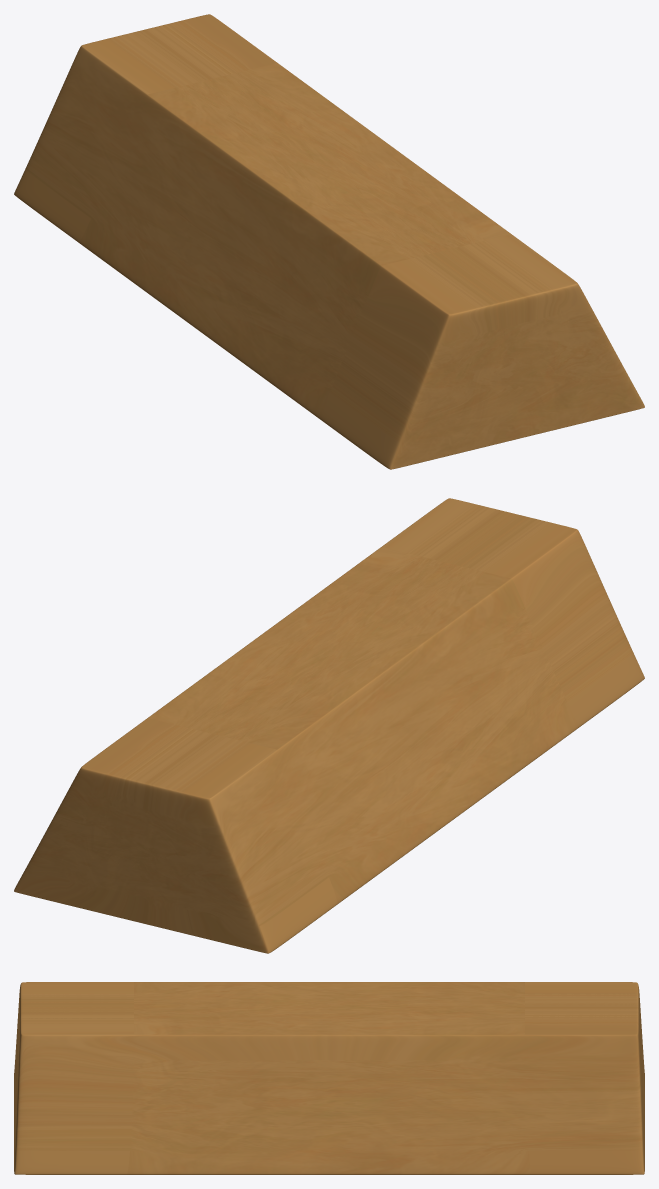
File: gold-brick.glb
3 renders of one model, top to bottom at view 1: azimuth 30°, elevation 25°; view 2: azimuth 150°, elevation 25°; view 3: azimuth 270°, elevation 25°, orthographic. The views are drawn at different scales.
Visible parts, largest first — view 1: Gold Brick_0; view 2: Gold Brick_0; view 3: Gold Brick_0.
Part boxes in pixels (x1,y1,x2,y2): Gold Brick_0: (14, 14, 644, 469); Gold Brick_0: (14, 498, 644, 953); Gold Brick_0: (14, 982, 644, 1174).
Bounding box in the file's own units: 0.393 × 0.1989 × 0.9961.
Materials: 1 (1 with a texture image).
